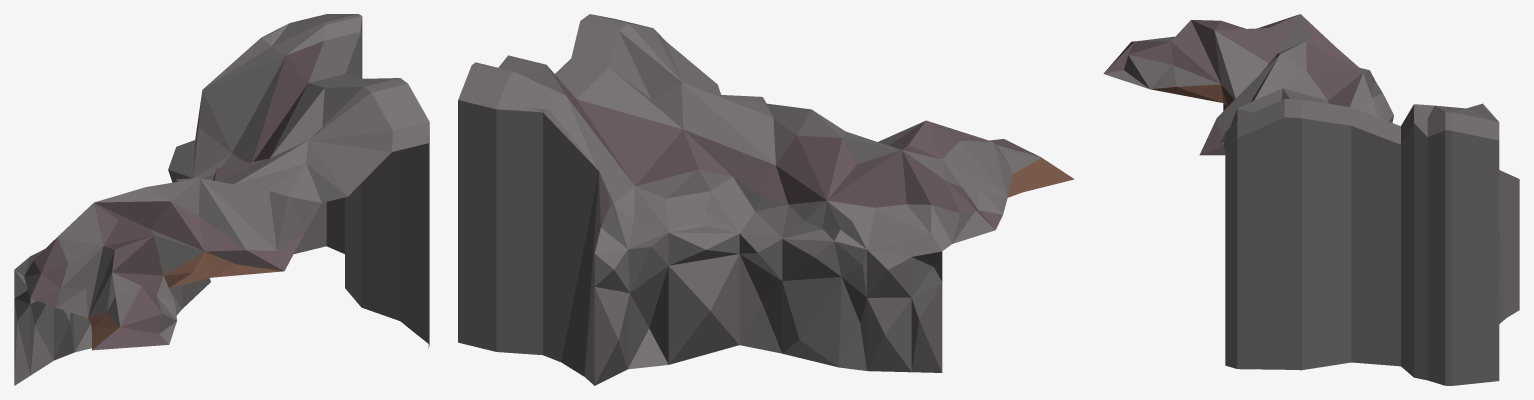
Rendered from mountain02.fbx.
3 renders of one model, left to right at view 1: azimuth 30°, elevation 25°; view 2: azimuth 150°, elevation 25°; view 3: azimuth 270°, elevation 25°, orthographic. The views are drawn at different scales.
Visible parts, largest first — view 1: Mountain07; view 2: Mountain07; view 3: Mountain07.
Part boxes in pixels (bbox=[...]): Mountain07: bbox=[14, 14, 429, 385]; Mountain07: bbox=[458, 14, 1074, 385]; Mountain07: bbox=[1103, 14, 1519, 385].
Size of the model in its own units: 0.7574 by 0.4234 by 0.6254.
